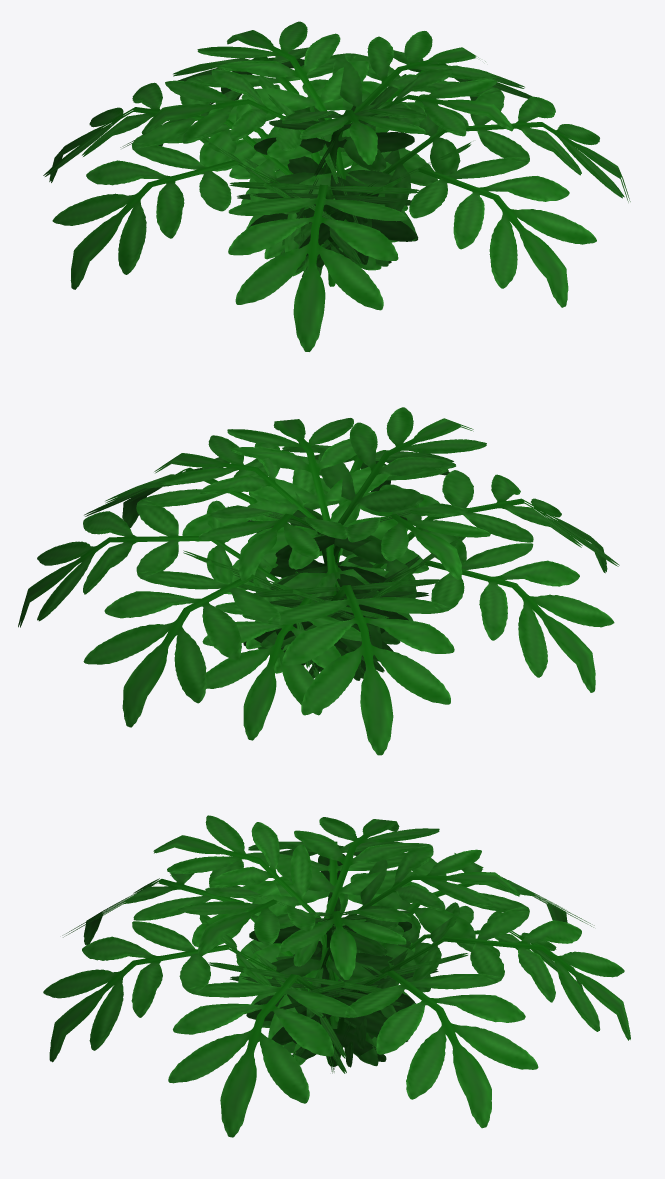
Rendered from Bush2.FBX.
The picture shows the model from 3 angles, top to bottom: view 1: azimuth 30°, elevation 25°; view 2: azimuth 150°, elevation 25°; view 3: azimuth 270°, elevation 25°; orthographic projection. The views are drawn at different scales.
Visible parts, largest first — view 1: Bush2; view 2: Bush2; view 3: Bush2.
Boxes of the visible parts, x1,y1,x2,y2 form: Bush2: [43, 21, 630, 351]; Bush2: [18, 407, 619, 755]; Bush2: [43, 815, 630, 1137].
Size of the model in its own units: 6.35 by 2.41 by 6.47.
1 material, 1 textured.
